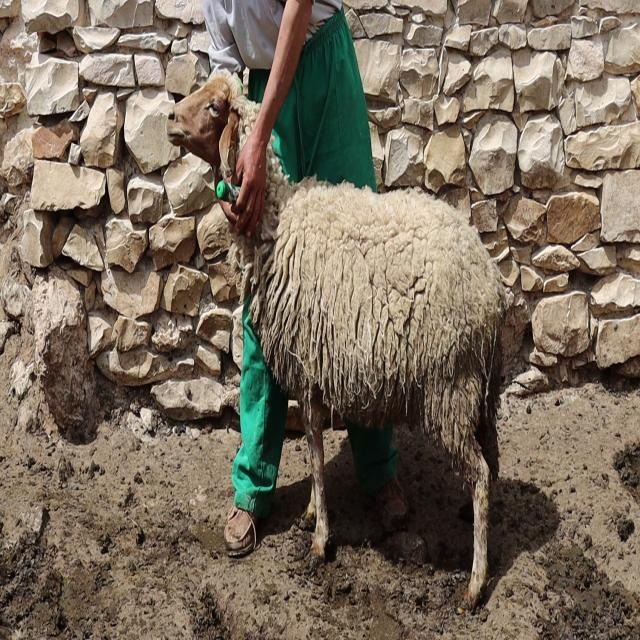Score_3: (229, 140, 514, 606)
